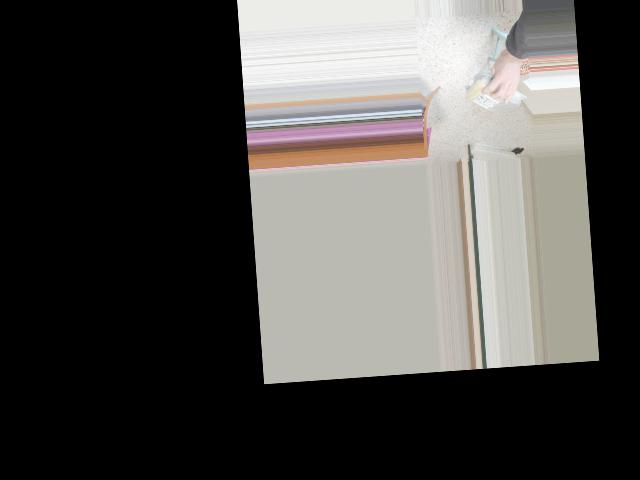cheese: (459, 78, 523, 111)
